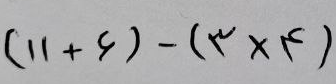character: (280, 27, 313, 65), (208, 26, 239, 61), (190, 23, 211, 70), (5, 29, 26, 73), (248, 34, 273, 65), (98, 31, 120, 66), (125, 26, 144, 65), (318, 24, 328, 80), (42, 36, 57, 66), (28, 39, 49, 60), (63, 42, 81, 61), (158, 42, 181, 54)
